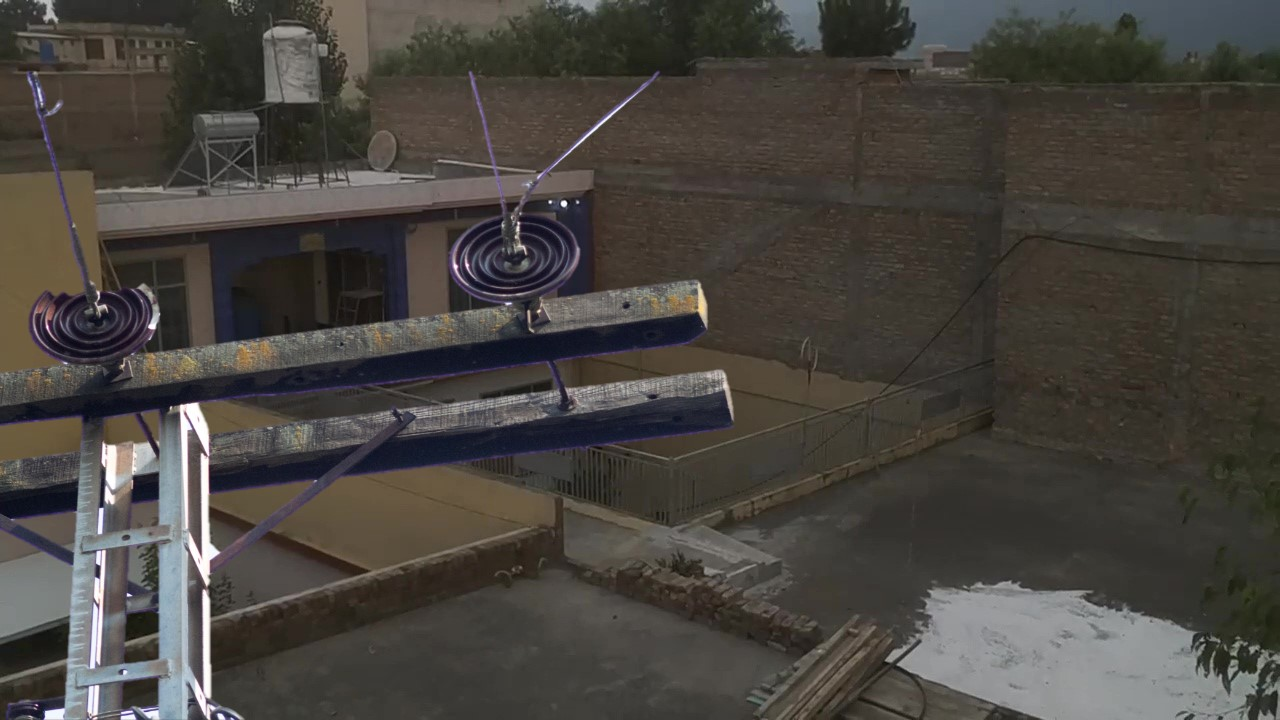defect_disc: (29, 269, 163, 371)
insulator_disc: (443, 208, 590, 305)
